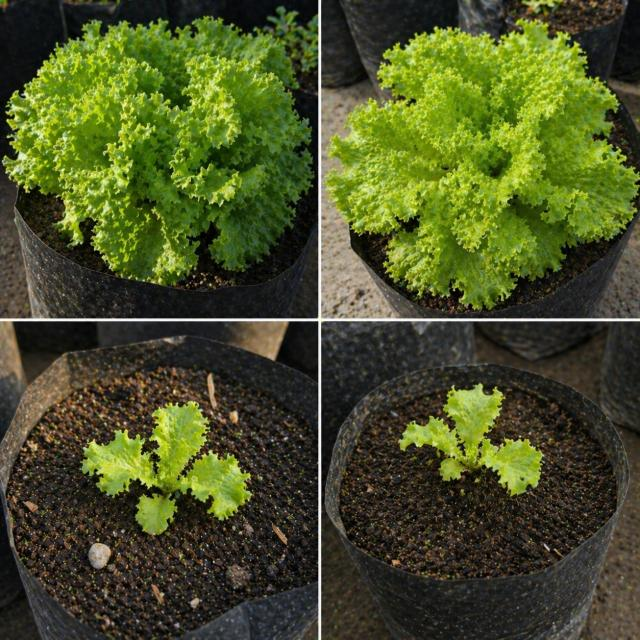lista_para_cosechar: (327, 20, 639, 309), (3, 17, 313, 285)
verde: (81, 401, 251, 534), (399, 383, 544, 496)
